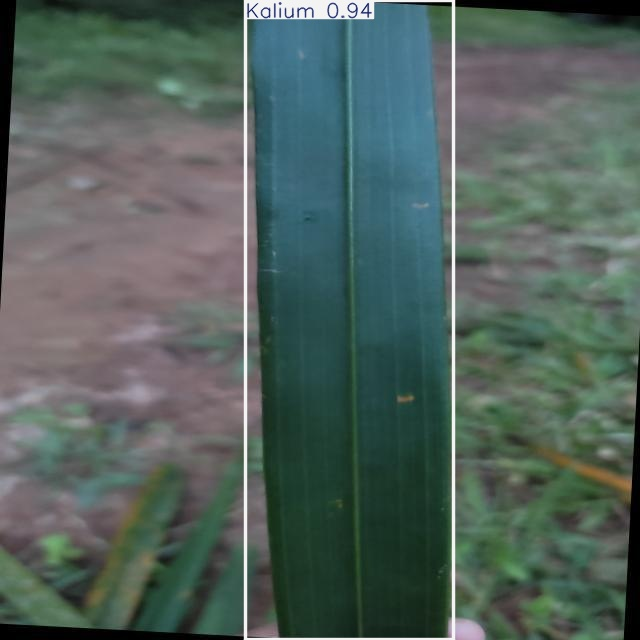Kalium: (245, 0, 453, 640)
